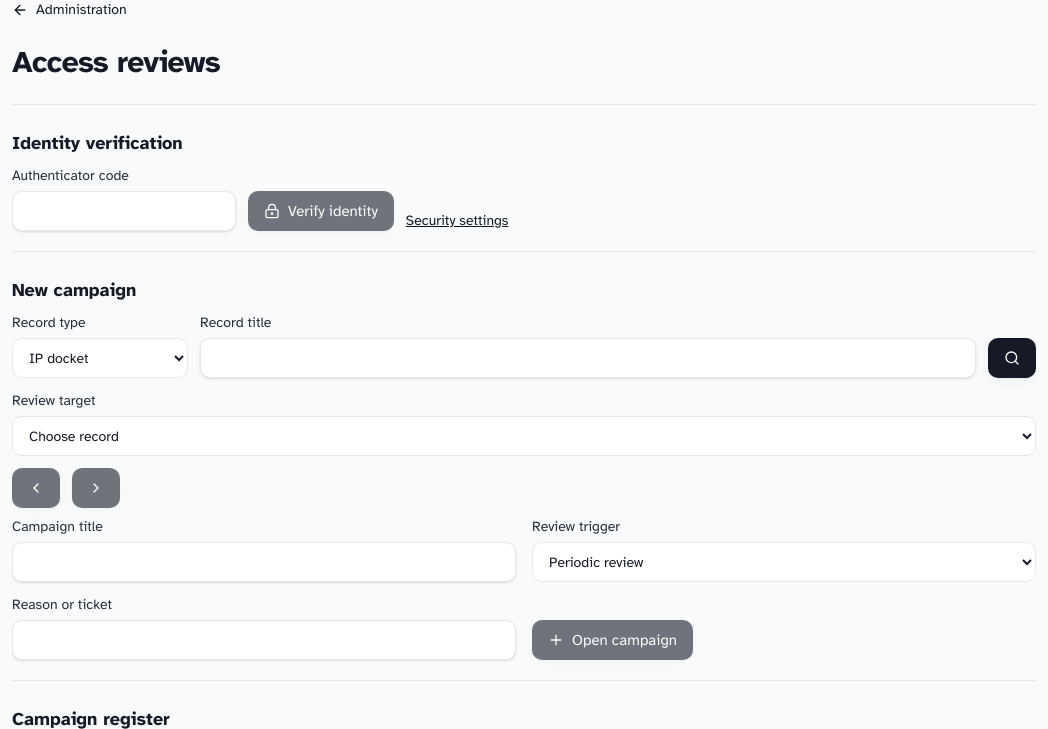
Access review screen › opens the discovered scope and prevents preparer self-review without an error toast
The image size is (1048, 729).
Step 1. Select "Review target" in the dropdown labelled "Review target" → (524, 436), box [12,416,1036,456]
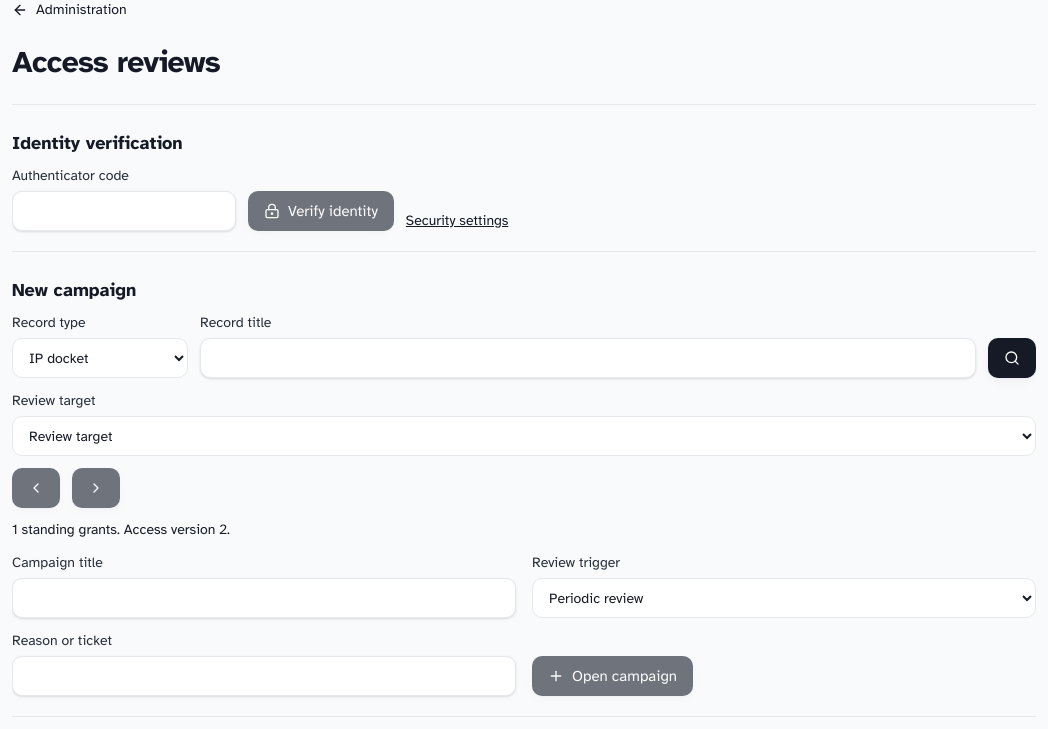
Expected: the text "1 standing grants. Access version 2." is shown, [12,521,230,538]
Step 2. Type "September review" into the field labelled "Campaign title" → (264, 598), box [12,578,516,618]
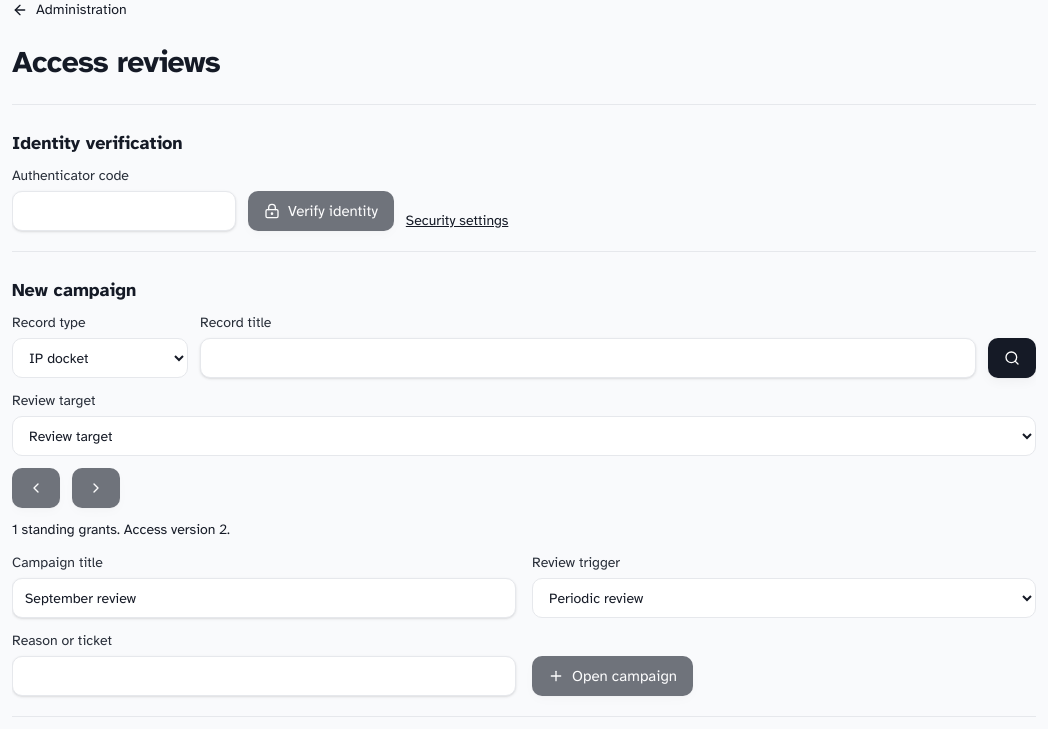
Step 3. Type "Periodic certification" into the field labelled "Reason or ticket" → (264, 676), box [12,656,516,696]
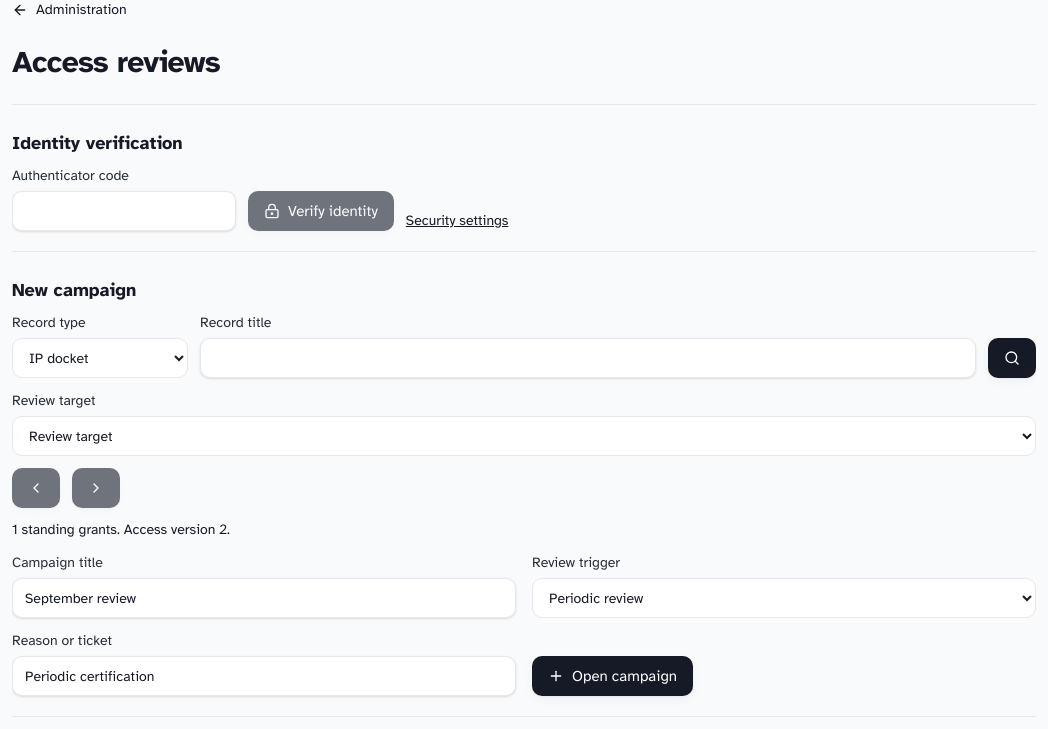
Step 4. Click the button "Open campaign" → (612, 676), box [532,656,693,696]
(page scrolled)
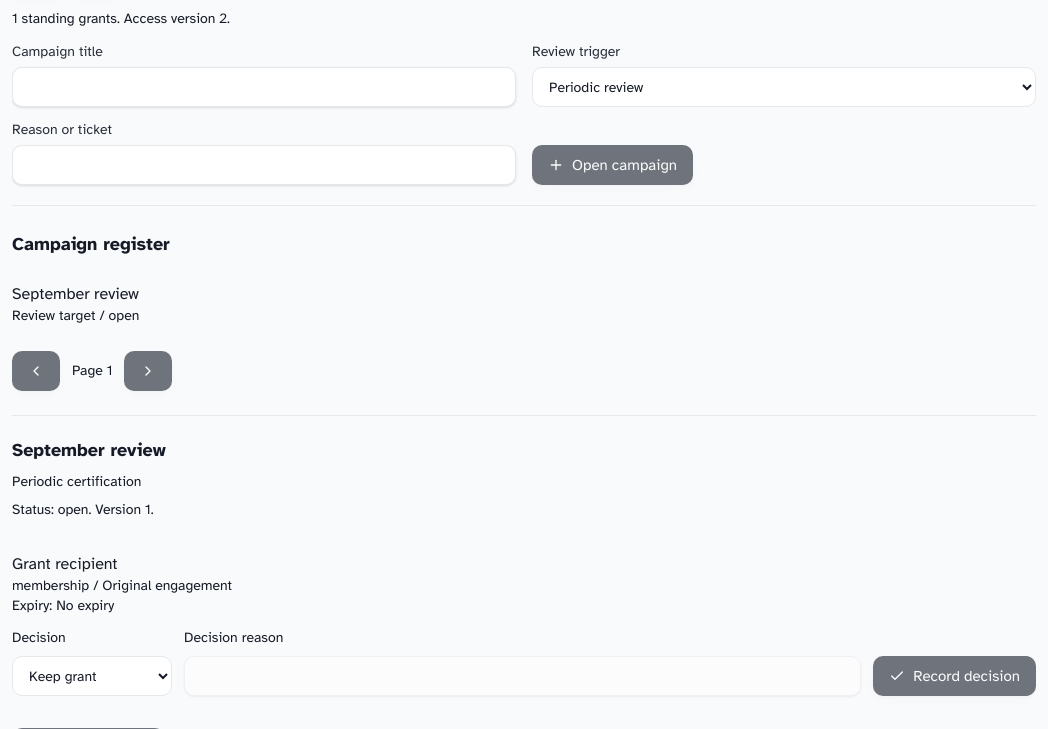
Expected: the button "Record decision" is disabled, [873,656,1036,696]
